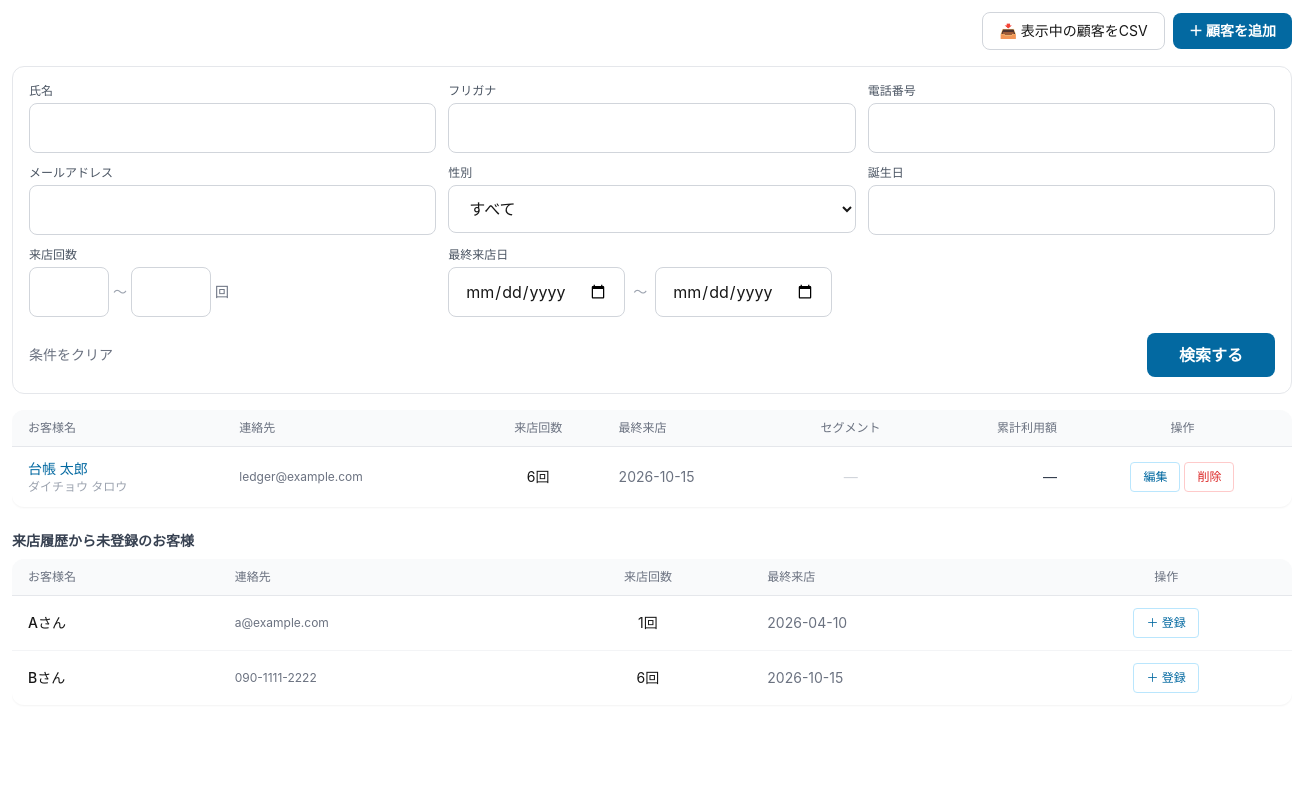
フリガナ等で絞り込むと未登録のお客様は出ず、その理由を表示する
expect the text "フリガナ・性別・誕生日の条件では" is not shown: met
Type "ダイチョウ" into the field named "フリガナ".
click(652, 128); type("ダイチョウ")  # box [448, 103, 856, 153]
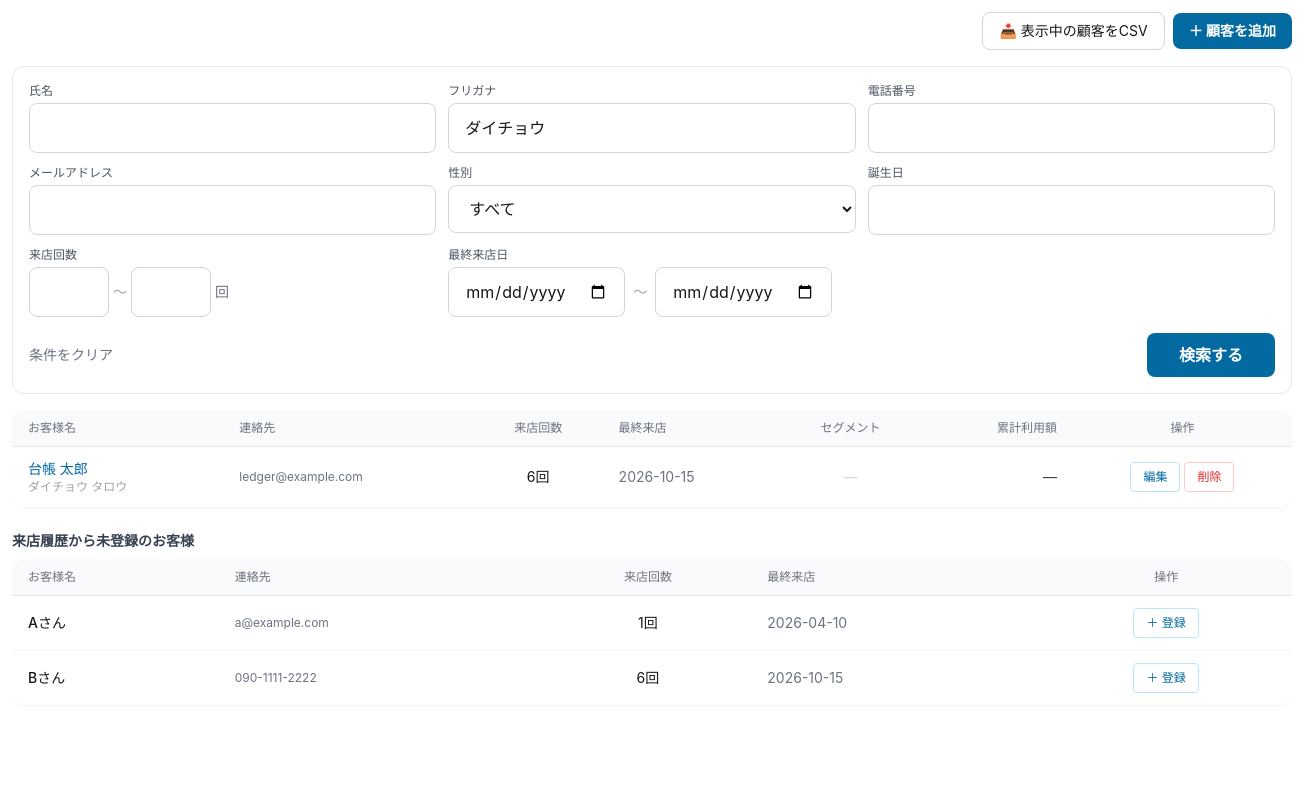
Click the button "検索する".
click(1211, 355)  # box [1147, 333, 1275, 377]
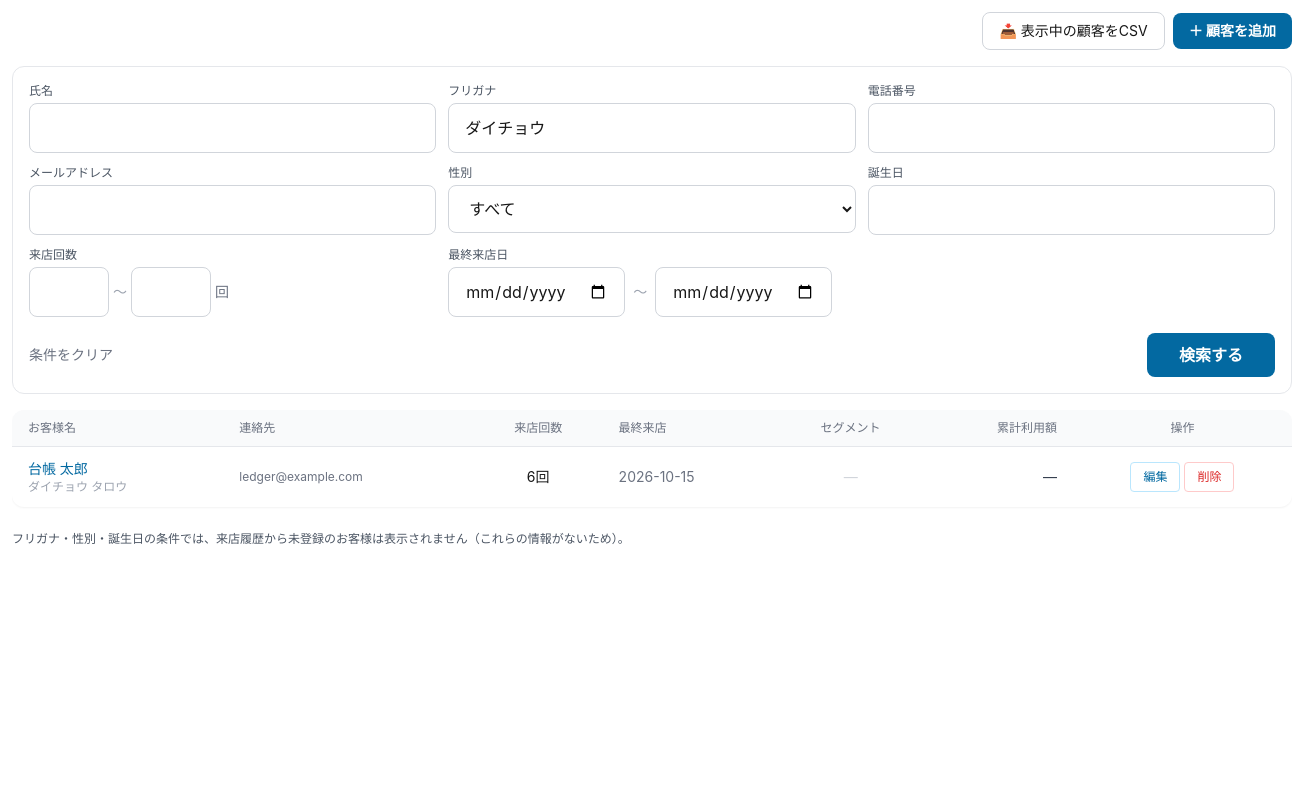
expect the text "Aさん" is gone: met
expect the text "Bさん" is gone: met
expect the text "フリガナ・性別・誕生日の条件では、来店履歴から未登録のお客様は表示されません（これらの情報がないため）。" is shown: met, box [12, 531, 630, 546]
